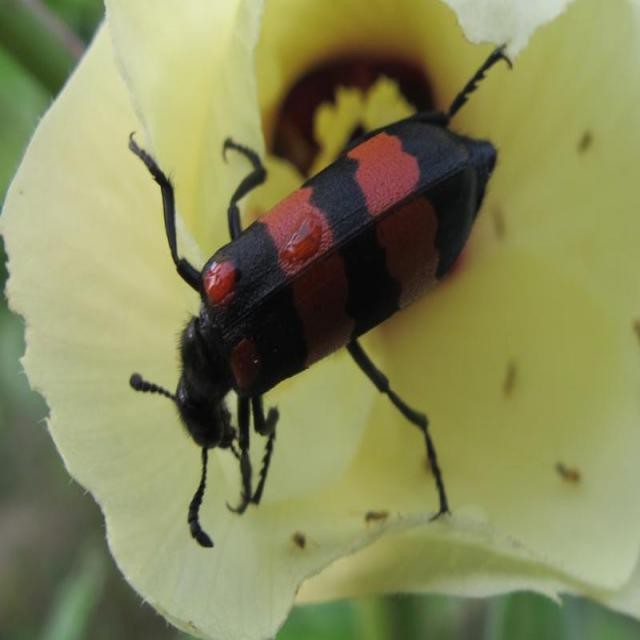BlisterBeetle-Adult-: (98, 39, 520, 552)
